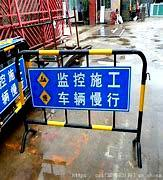sign: (29, 67, 130, 111)
